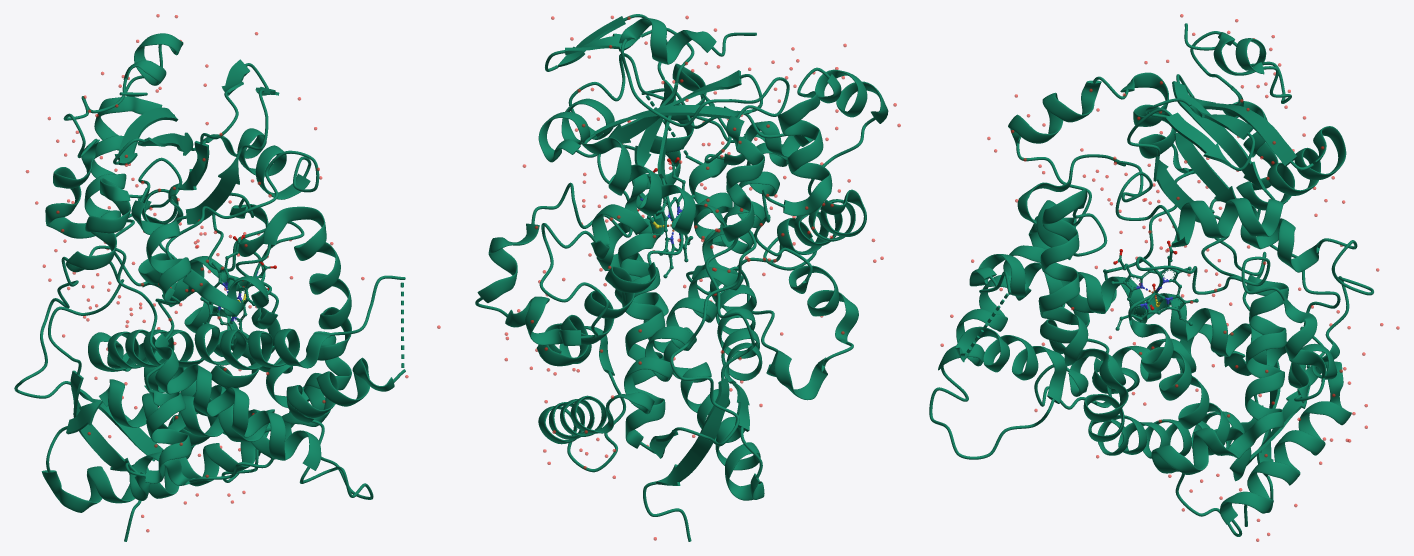
The model's file is 1TQN-20250301T195957732Z-e2fa9358.glb.
3 views of the same model, side by side, from view 1: azimuth 30°, elevation 25°; view 2: azimuth 150°, elevation 25°; view 3: azimuth 270°, elevation 25° (orthographic). The views are drawn at different scales.
Size of the model in its own units: 46.05 by 72.68 by 60.08.
